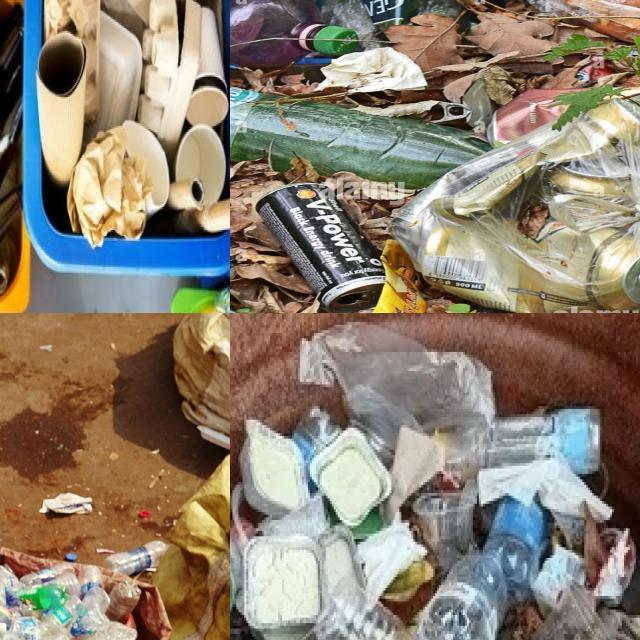Disposable: (310, 427, 392, 526), (242, 536, 322, 631), (239, 420, 310, 515), (413, 481, 478, 572), (533, 585, 611, 640)
Garbage: (230, 322, 640, 640), (230, 0, 640, 313), (0, 563, 140, 640)
Glass_bottle: (0, 3, 23, 123), (0, 187, 22, 240)
Plastic_Bag: (393, 101, 640, 313), (301, 322, 495, 482)
Plastic_bottle: (230, 87, 490, 188), (230, 0, 358, 68), (416, 554, 508, 640), (486, 407, 600, 475), (315, 567, 411, 640), (483, 497, 549, 603), (69, 586, 111, 638), (105, 581, 141, 622), (42, 596, 81, 633), (19, 562, 74, 588), (17, 585, 68, 610), (84, 621, 137, 640), (81, 586, 111, 614), (78, 565, 103, 596), (0, 603, 13, 624)
can: (259, 184, 384, 313)
